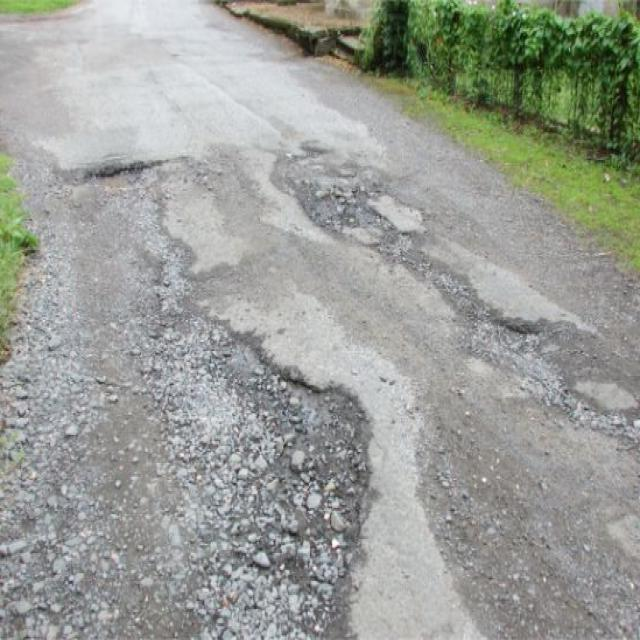Pothole: (139, 313, 385, 639), (84, 143, 207, 194)
